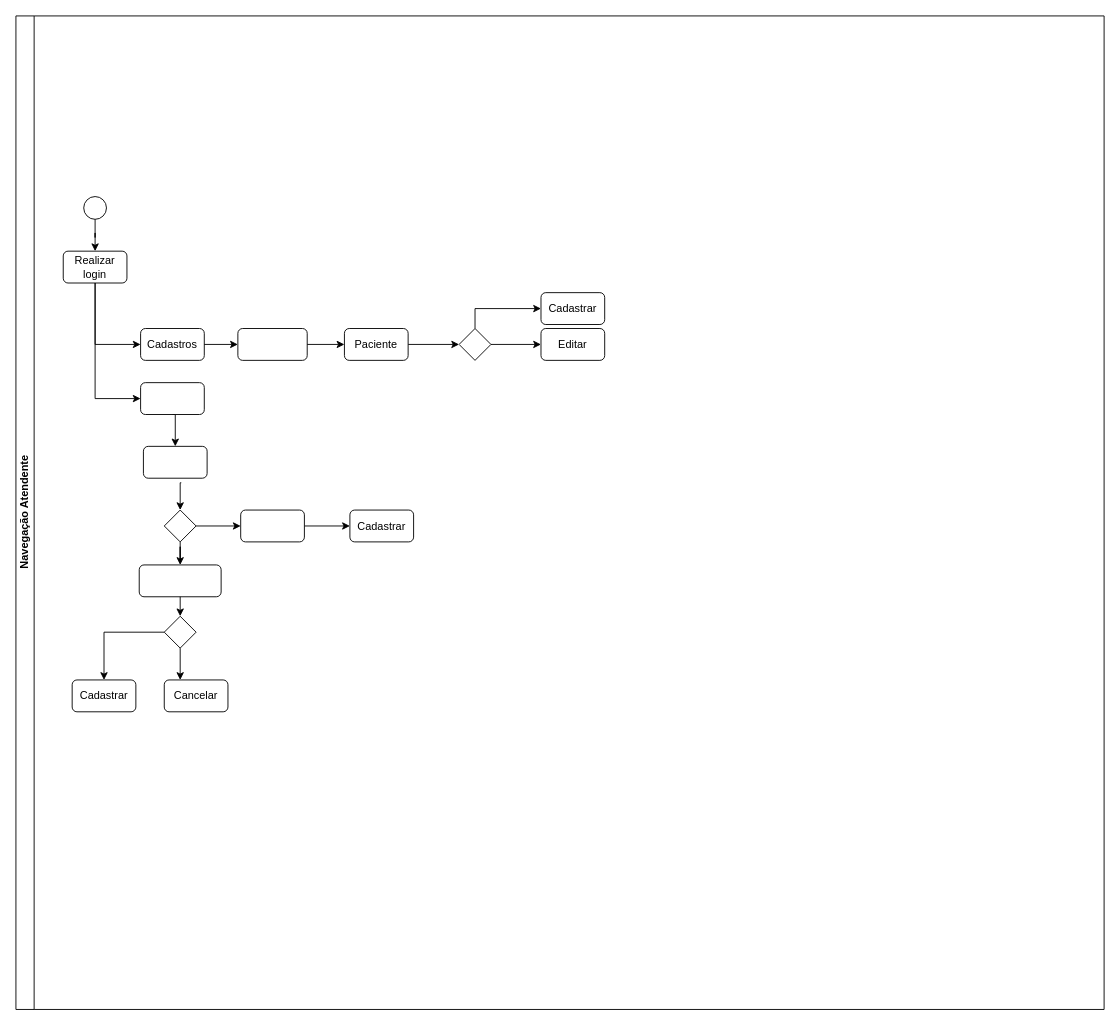
The diagram is 1120 pixels wide and 1026 high, and some of its shapes have lost their labels. Each missing label, with the centre of its shape:
"Agendamento Consulta" belongs at (x=179, y=580).
"Atendimento" belongs at (x=175, y=461).
"Operações" belongs at (x=172, y=398).
"Pacientes" belongs at (x=272, y=344).
"Resultado Exame" belongs at (x=272, y=525).
